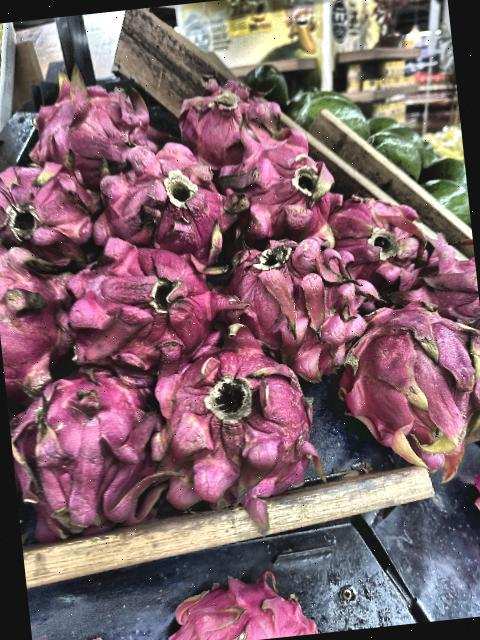buah-naga-matang: (146, 342, 339, 533), (5, 361, 163, 544), (64, 222, 233, 380), (332, 295, 480, 469), (84, 128, 244, 267), (224, 230, 364, 364), (25, 60, 162, 182), (213, 113, 338, 246), (0, 235, 81, 391), (164, 62, 282, 160), (328, 178, 428, 290), (162, 570, 318, 640), (0, 151, 101, 259)
